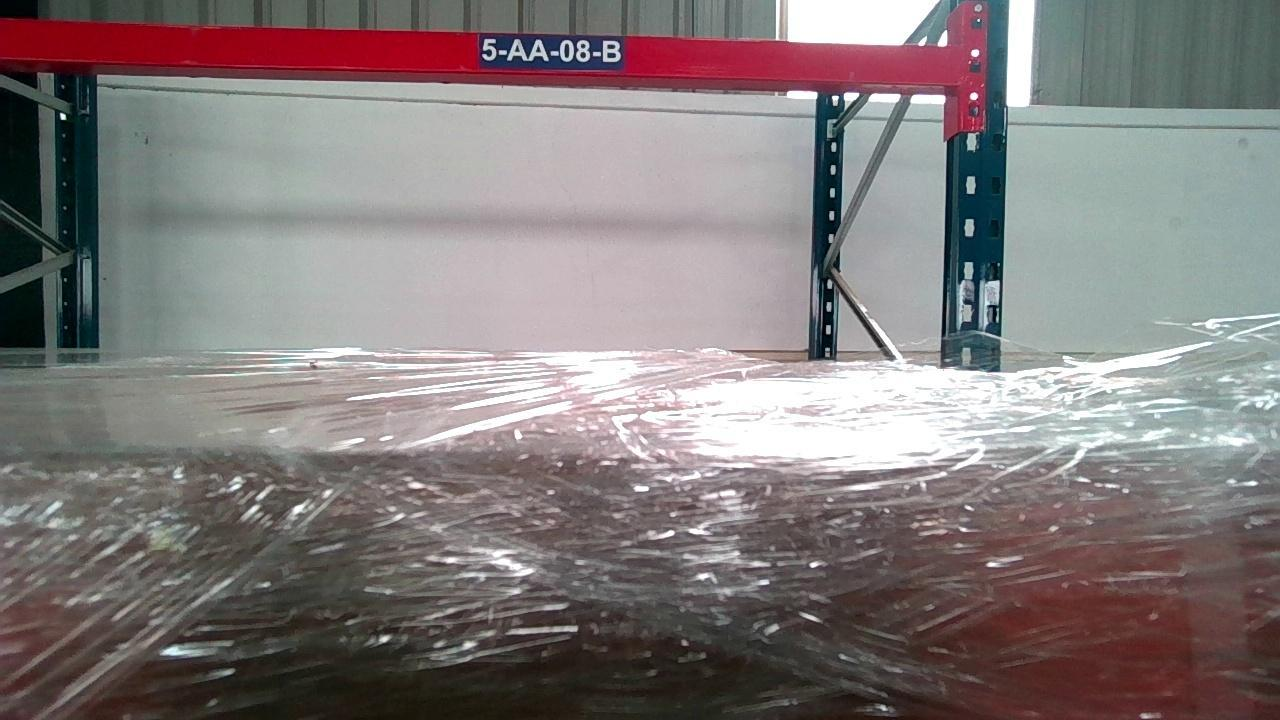h_rack: (1, 16, 962, 85)
